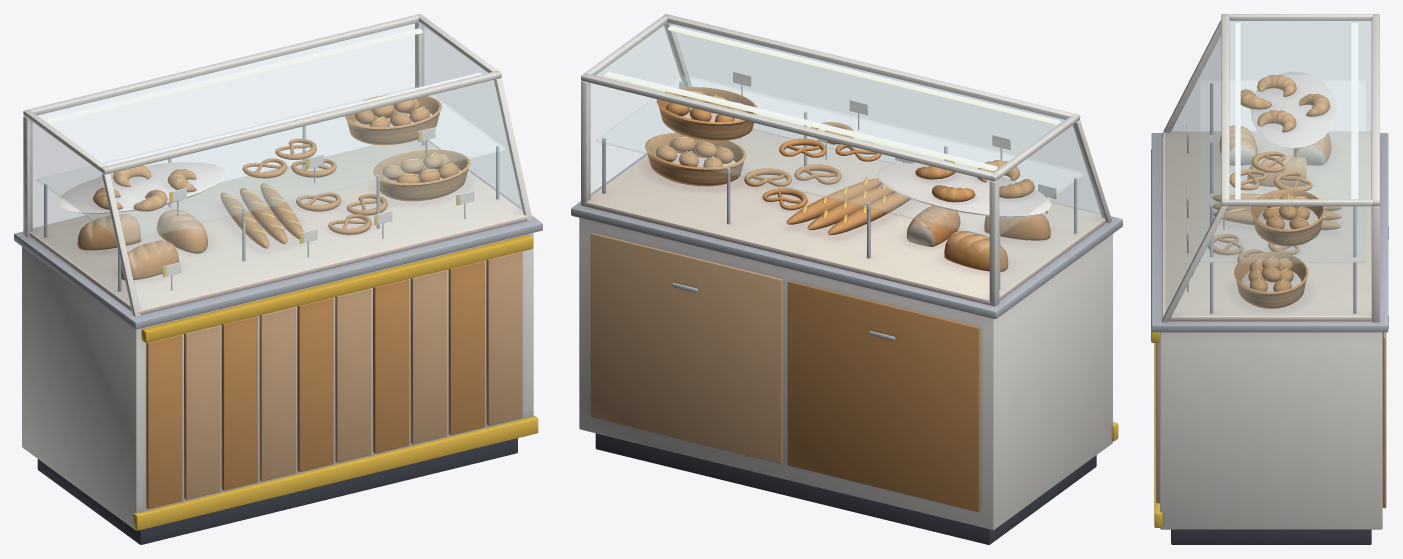
The model's file is bakery-display-case.fbx.
The picture shows the model from 3 angles, left to right: view 1: azimuth 30°, elevation 25°; view 2: azimuth 150°, elevation 25°; view 3: azimuth 270°, elevation 25°; orthographic projection. The views are drawn at different scales.
Visible parts, largest first — view 1: bakery-display-case_body, bakery-display-case_glass, bakery-display-case_light_glow; view 2: bakery-display-case_body, bakery-display-case_glass, bakery-display-case_light_glow; view 3: bakery-display-case_body, bakery-display-case_glass, bakery-display-case_light_glow.
Boxes of the visible parts, bbox=[...] form: bakery-display-case_body: bbox=[14, 14, 542, 544]; bakery-display-case_glass: bbox=[30, 20, 525, 308]; bakery-display-case_light_glow: bbox=[46, 28, 481, 165]; bakery-display-case_body: bbox=[571, 14, 1122, 544]; bakery-display-case_glass: bbox=[591, 21, 1104, 295]; bakery-display-case_light_glow: bbox=[604, 25, 1060, 171]; bakery-display-case_body: bbox=[1151, 14, 1388, 544]; bakery-display-case_glass: bbox=[1164, 18, 1371, 316]; bakery-display-case_light_glow: bbox=[1235, 23, 1358, 199].
Bounding box in the file's own units: 1.65 × 1.38 × 0.854.
Materials: 3 (1 with a texture image).
